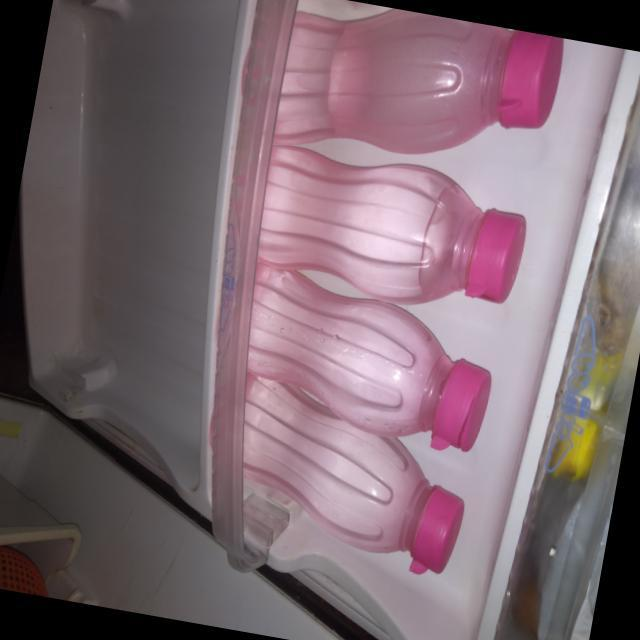good: (204, 249, 510, 475), (190, 358, 482, 590), (231, 0, 567, 189), (221, 130, 536, 324)
